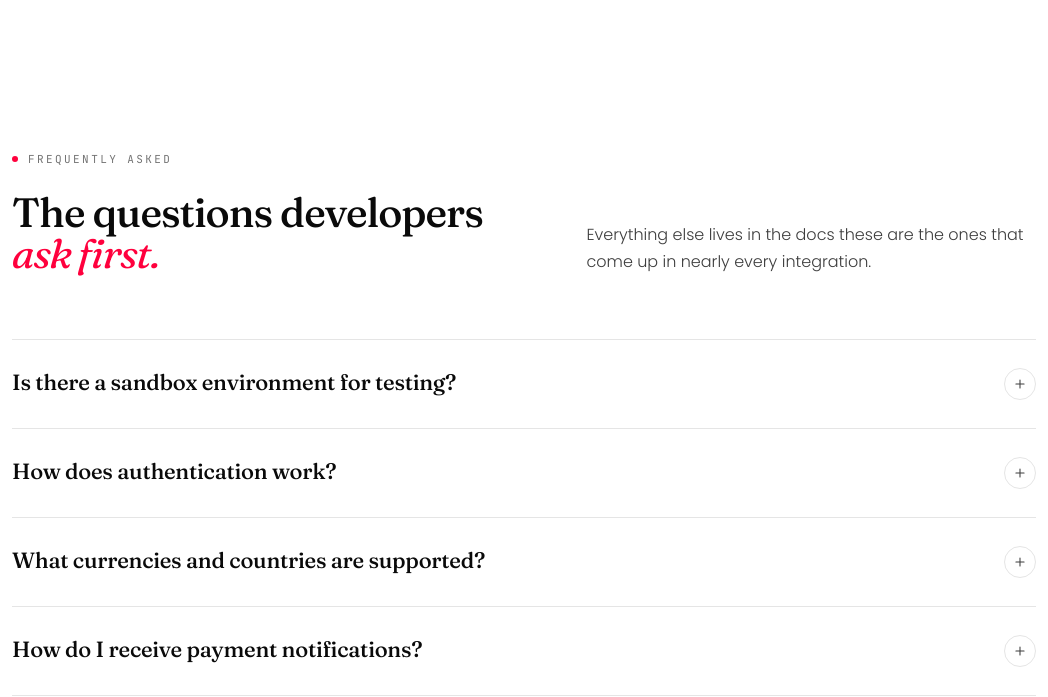
Test: Home  FAQ accordion renderer › plain-text paragraphs › renders a plain answer as <p> elements
This screenshot has width=1048, height=697.
(page scrolled)
Click the button "Is there a sandbox environment for testing?".
click(234, 382)  # box x1=12 y1=340 x2=1036 y2=428
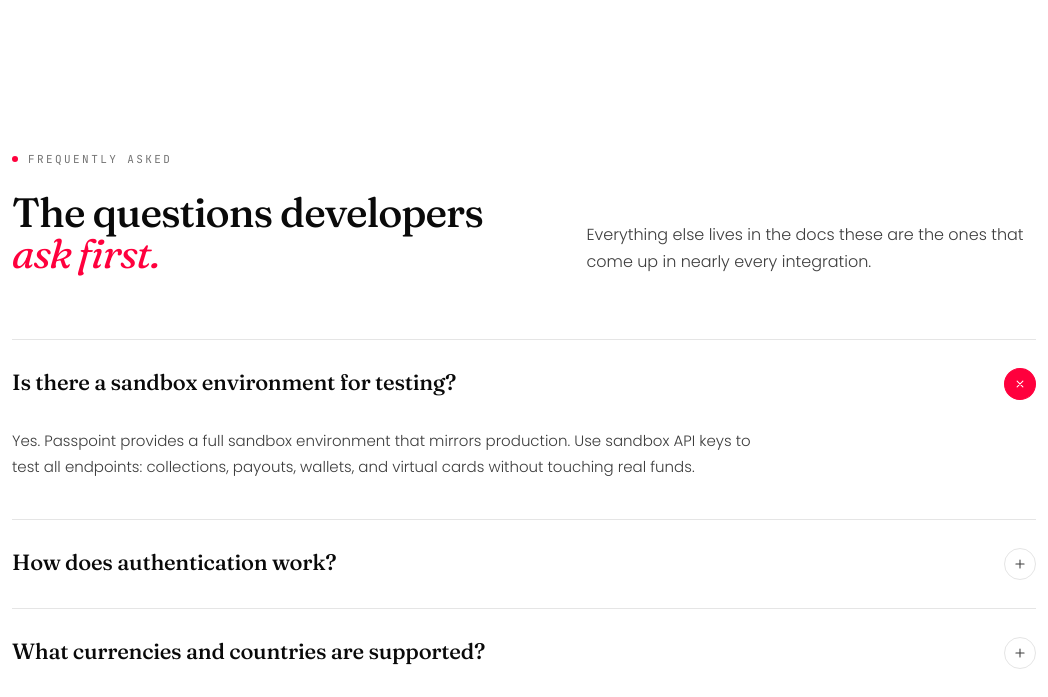
Check: the text "Passpoint provides a full sandbox environment" is shown, box x1=12 y1=430 x2=751 y2=477
